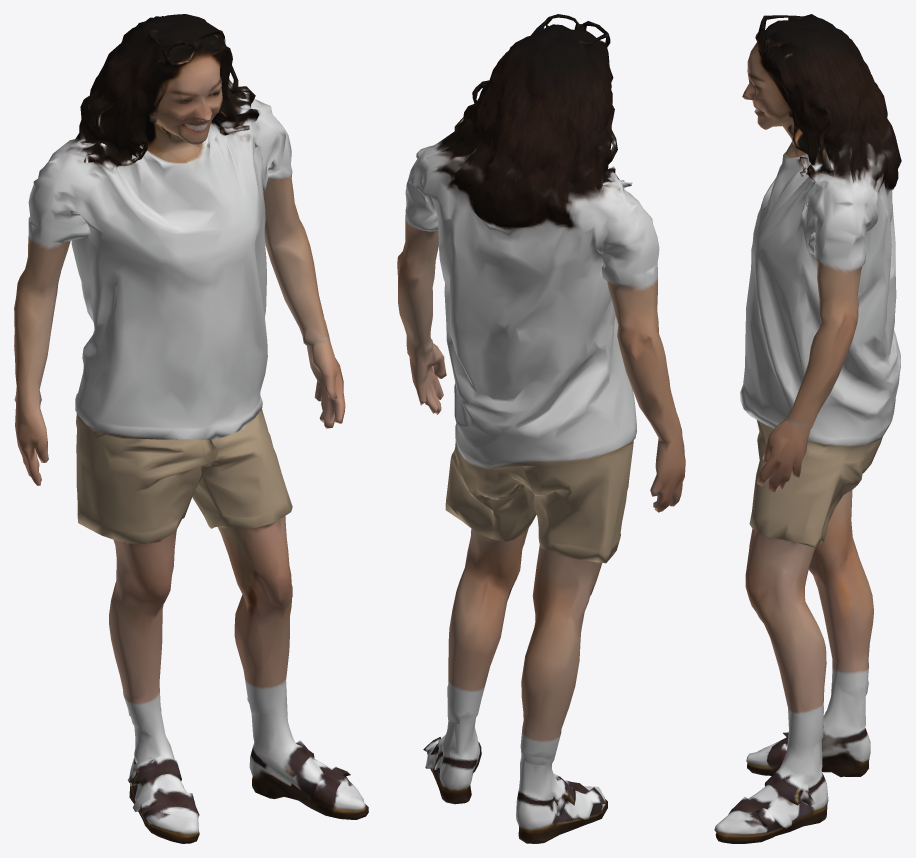
File: bule_cewek_1_idle.glb
3 views of the same model, side by side, from view 1: azimuth 30°, elevation 25°; view 2: azimuth 150°, elevation 25°; view 3: azimuth 270°, elevation 25° (orthographic). The views are drawn at different scales.
Visible parts, largest first — view 1: tripo_node_4c15db2a; view 2: tripo_node_4c15db2a; view 3: tripo_node_4c15db2a.
Boxes of the visible parts, x1=… form: tripo_node_4c15db2a: x1=14, y1=14, x2=368, y2=843; tripo_node_4c15db2a: x1=397, y1=14, x2=685, y2=843; tripo_node_4c15db2a: x1=714, y1=14, x2=901, y2=843.
Size of the model in its own units: 38.2 by 98.47 by 22.22.
1 material, 1 textured.
